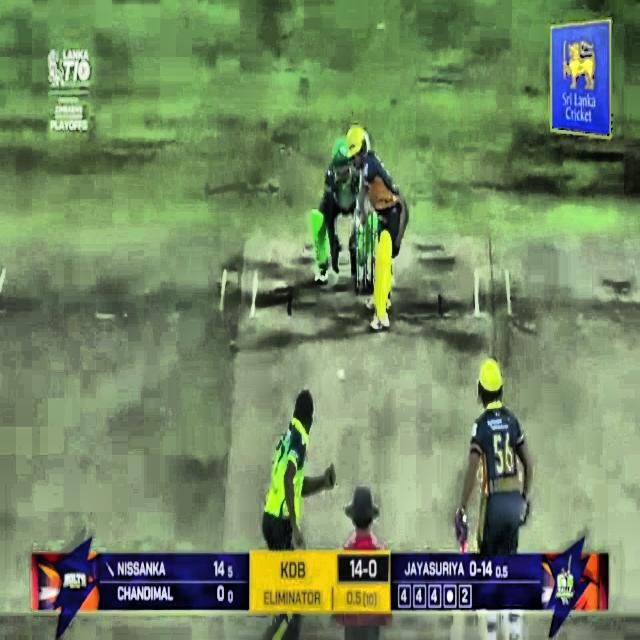Left-stump: (355, 229, 358, 293)
Middle-stump: (363, 228, 367, 293)
Right-stump: (372, 224, 374, 292)
stumps: (355, 204, 375, 299)
